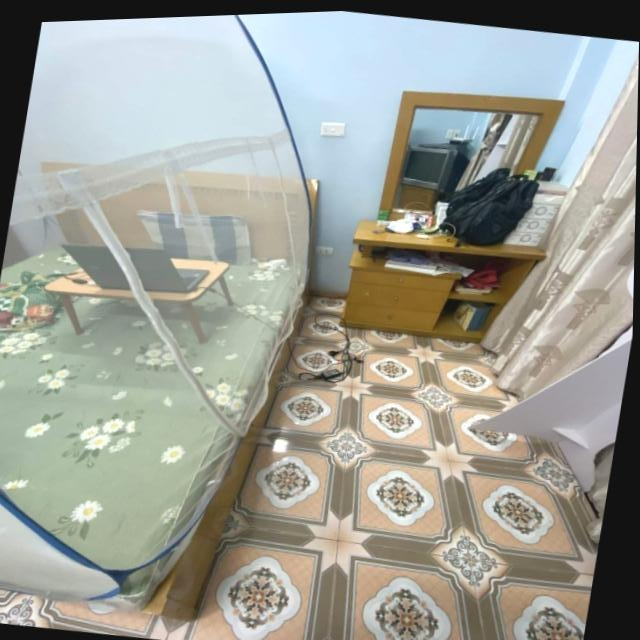outlet: (316, 245, 335, 257)
